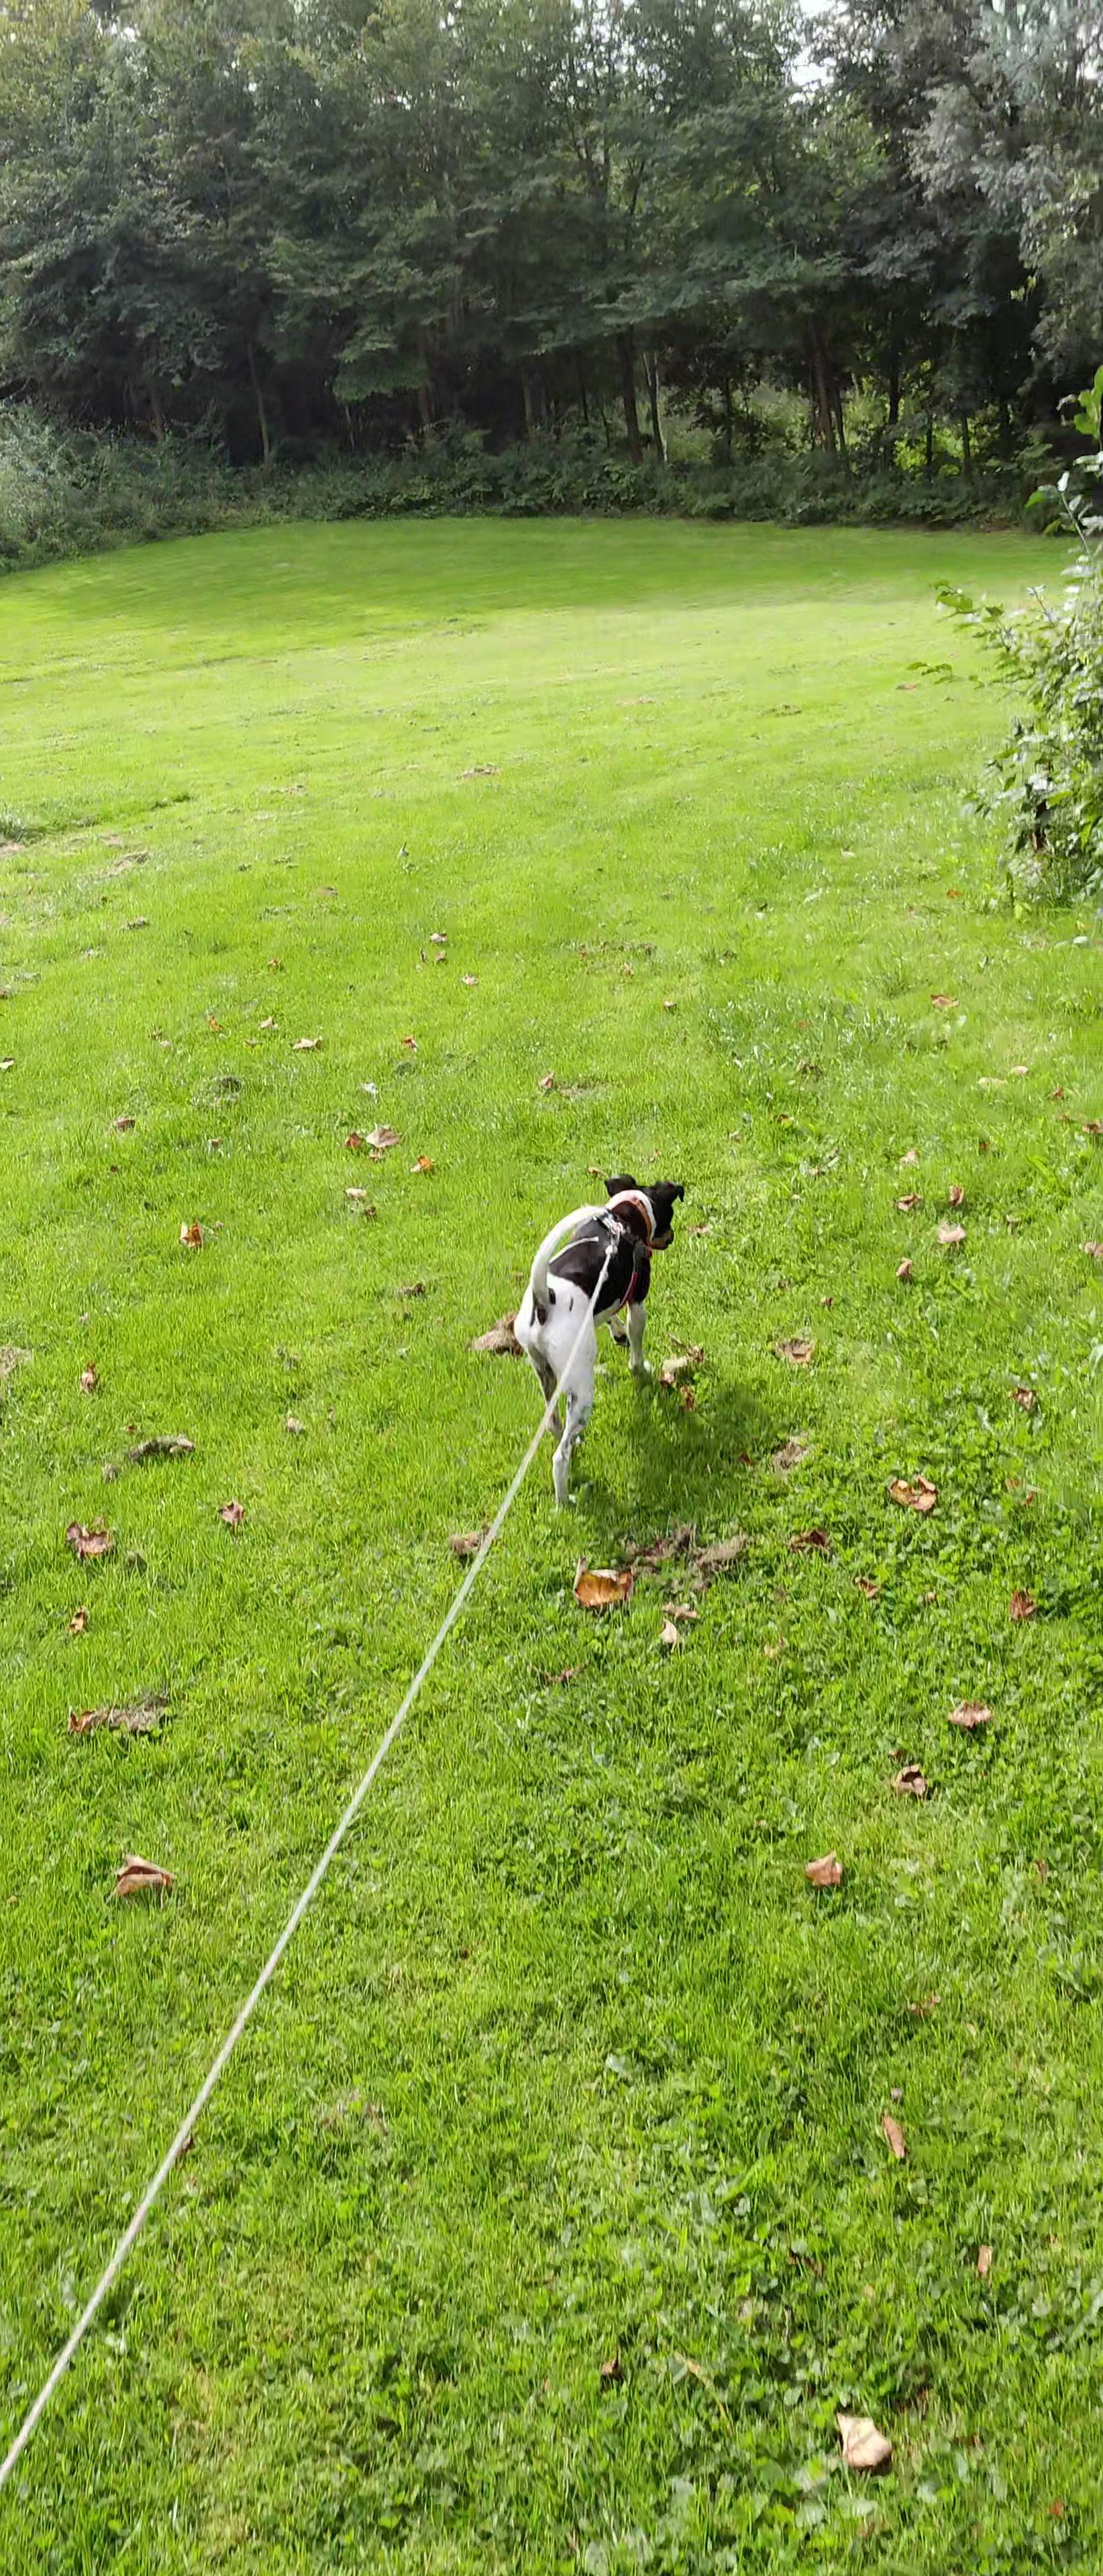Dog: (511, 1175, 687, 1511)
